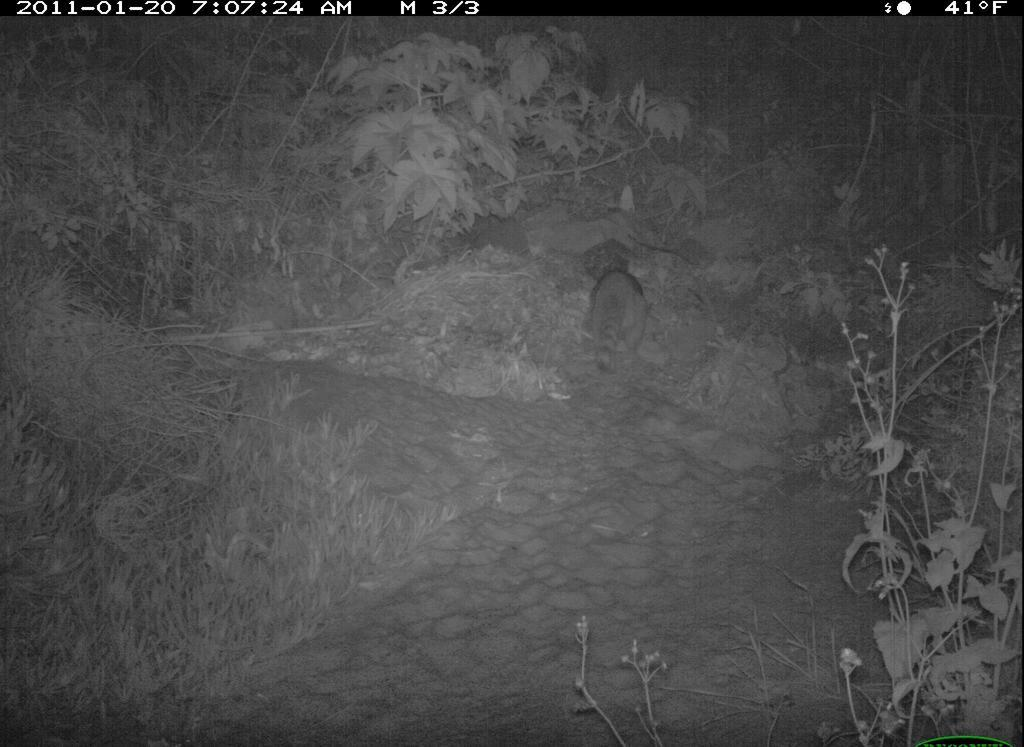raccoon: (585, 255, 667, 385)
